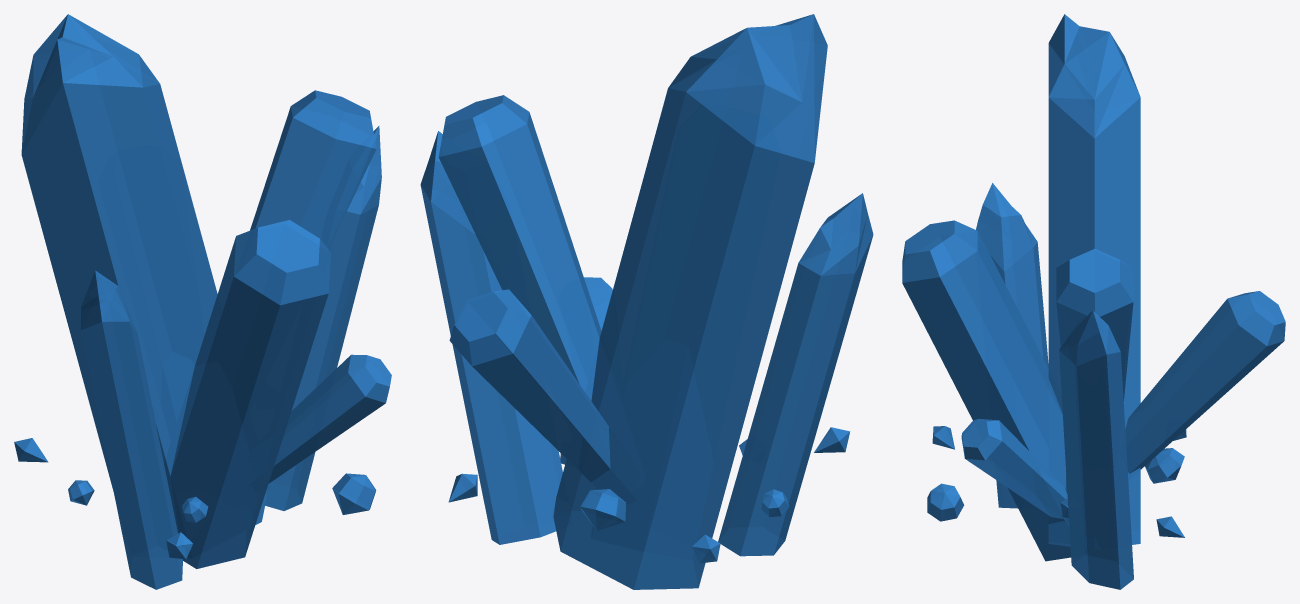
The model's file is crystal_pile.FBX.
The picture shows the model from 3 angles, left to right: view 1: azimuth 30°, elevation 25°; view 2: azimuth 150°, elevation 25°; view 3: azimuth 270°, elevation 25°; orthographic projection. The views are drawn at different scales.
Visible parts, largest first — view 1: crystal003, crystal004, crystal007, crystal005, crystal008, crystal002, Sphere001, Sphere007, Sphere003, Sphere002, Sphere006; view 2: crystal003, crystal005, crystal007, crystal008, crystal006, Sphere005, crystal002, Sphere003, Sphere008, Sphere006, Sphere007; view 3: crystal003, crystal004, crystal008, crystal006, crystal007, crystal005, crystal002, Sphere001, Sphere005.
Boxes of the visible parts, x1,y1,x2,y2 form: crystal003: [21, 14, 267, 533]; crystal004: [170, 220, 330, 568]; crystal007: [81, 270, 182, 589]; crystal005: [250, 90, 376, 249]; crystal008: [265, 126, 381, 510]; crystal002: [268, 354, 391, 483]; Sphere001: [332, 473, 376, 514]; Sphere007: [14, 438, 48, 462]; Sphere003: [166, 532, 192, 559]; Sphere002: [182, 496, 208, 522]; Sphere006: [68, 480, 94, 505]; crystal003: [553, 14, 827, 589]; crystal005: [438, 95, 601, 400]; crystal007: [718, 193, 873, 556]; crystal008: [420, 131, 562, 544]; crystal006: [449, 289, 610, 482]; Sphere005: [580, 489, 625, 530]; crystal002: [584, 277, 612, 330]; Sphere003: [814, 427, 850, 452]; Sphere008: [448, 473, 477, 502]; Sphere006: [761, 489, 789, 517]; Sphere007: [692, 534, 720, 563]; crystal003: [1048, 14, 1140, 546]; crystal004: [902, 220, 1070, 561]; crystal008: [1059, 310, 1133, 589]; crystal006: [1125, 291, 1285, 473]; crystal007: [976, 183, 1048, 508]; crystal005: [1056, 248, 1133, 401]; crystal002: [961, 419, 1067, 518]; Sphere001: [927, 483, 964, 521]; Sphere005: [1145, 448, 1184, 483].
Size of the model in its own units: 90.39 by 131 by 95.88.
